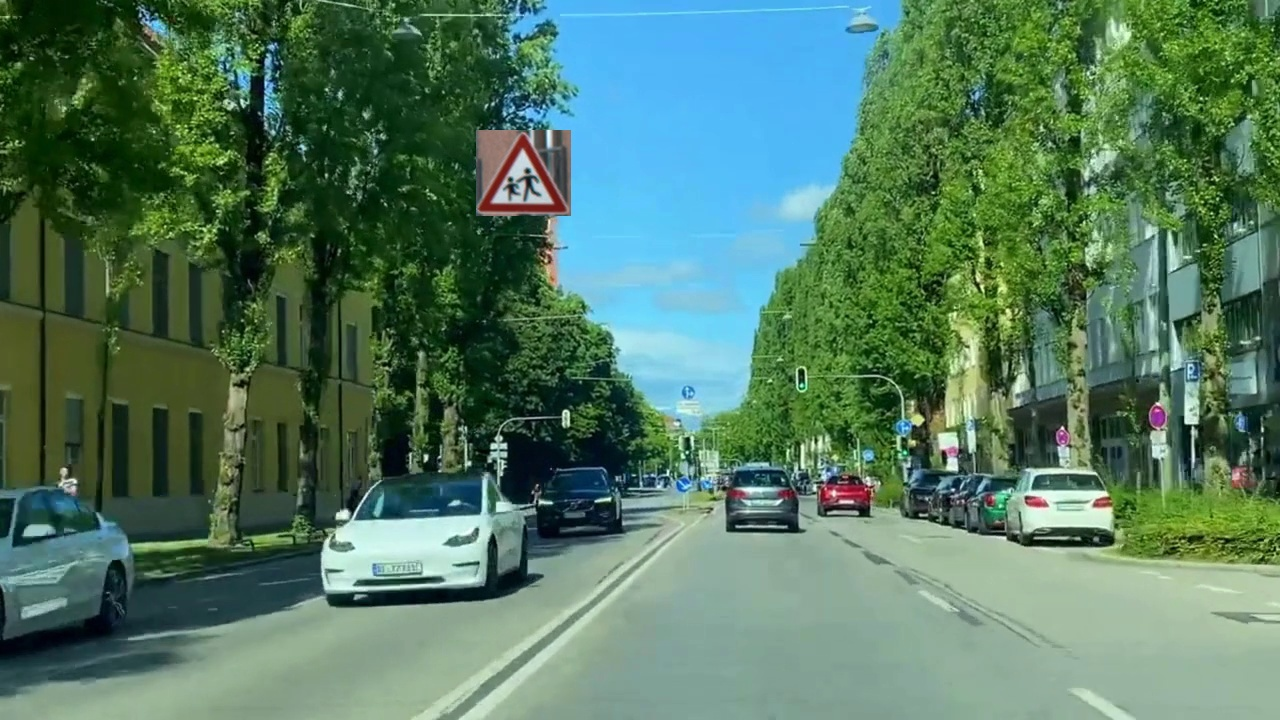Children: (476, 130, 571, 216)
